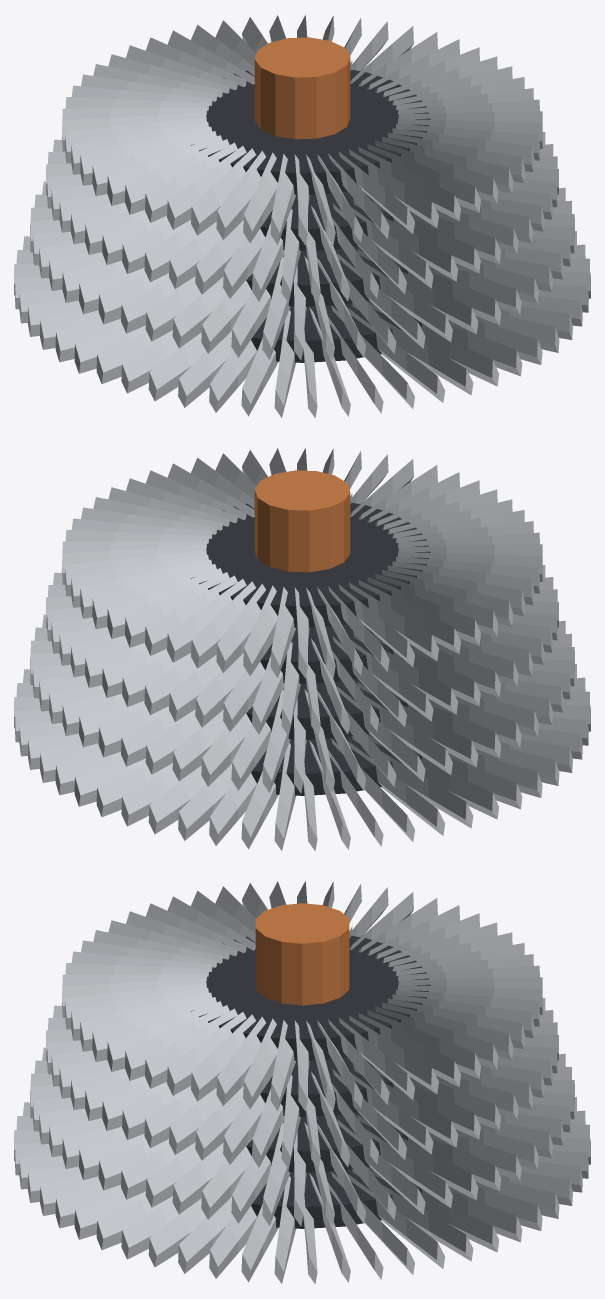
Rendered from turbinerotor_quality.glb.
The picture shows the model from 3 angles, top to bottom: view 1: azimuth 30°, elevation 25°; view 2: azimuth 150°, elevation 25°; view 3: azimuth 270°, elevation 25°; orthographic projection.
Visible parts, largest first — view 1: turbinerotor_quality; view 2: turbinerotor_quality; view 3: turbinerotor_quality.
Part boxes in pixels (<box>): turbinerotor_quality: <box>14,15,590,417</box>; turbinerotor_quality: <box>14,448,590,850</box>; turbinerotor_quality: <box>14,881,590,1283</box>.
Size of the model in its own units: 0.288 by 0.152 by 0.288.
